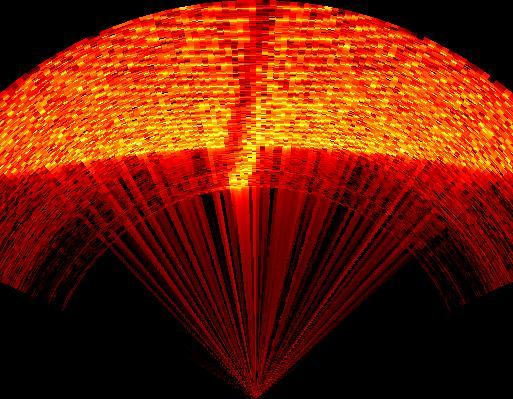pipe: (222, 3, 291, 190)
